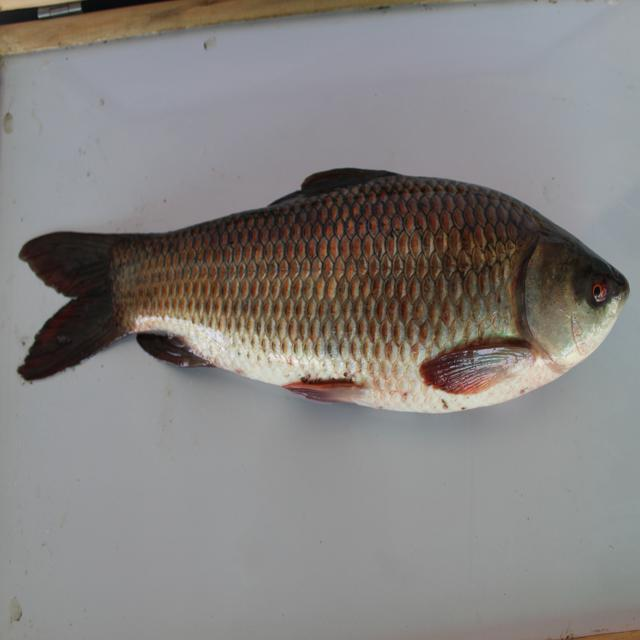Rohu: (14, 165, 634, 420)
